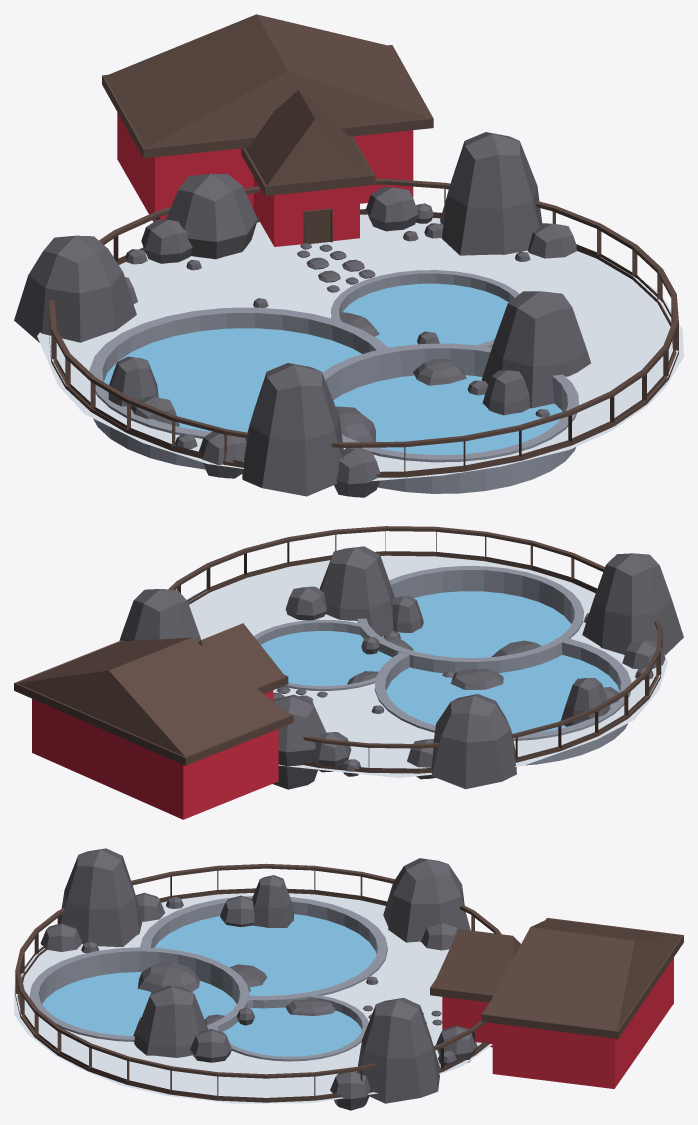
The model's file is Hotspring_Area_Blockout.fbx.
3 views of the same model, one above another, from view 1: azimuth 30°, elevation 25°; view 2: azimuth 150°, elevation 25°; view 3: azimuth 270°, elevation 25° (orthographic). The views are drawn at different scales.
Parts seen in each view (by area): view 1: Plane, Cube.044, Circle, Cube, Circle.006, Circle.002, Cube.023, Circle.007, Cube.022, Cube.028, Circle.001, Cube.001 (+13 smaller); view 2: Cube.044, Plane, Cube, Circle, Circle.002, Circle.007, Circle.006, Cube.023, Cube.028, Circle.004, Cube.011, Circle.001 (+11 smaller); view 3: Plane, Cube.044, Cube, Circle.006, Circle, Cube.022, Circle.002, Cube.023, Circle.007, Cube.028, Circle.004, Circle.001 (+14 smaller).
Boxes of the visible parts, x1,y1,x2,y2 form: Plane: [37, 214, 683, 481]; Cube.044: [102, 14, 433, 158]; Circle: [49, 178, 678, 477]; Cube: [117, 112, 413, 246]; Circle.006: [104, 328, 361, 432]; Circle.002: [322, 343, 578, 493]; Cube.023: [242, 363, 343, 496]; Circle.007: [333, 375, 562, 454]; Cube.022: [440, 132, 542, 255]; Cube.028: [14, 235, 136, 342]; Circle.001: [89, 307, 387, 469]; Cube.001: [241, 90, 375, 195]; Cube.044: [14, 637, 293, 765]; Plane: [186, 555, 667, 777]; Cube: [32, 690, 278, 819]; Circle: [168, 526, 662, 773]; Circle.002: [357, 566, 583, 673]; Circle.007: [382, 591, 571, 657]; Circle.006: [386, 654, 619, 733]; Cube.023: [582, 553, 683, 655]; Cube.028: [431, 694, 516, 789]; Circle.004: [261, 631, 391, 686]; Cube.011: [319, 546, 394, 636]; Circle.001: [374, 638, 631, 765]; Plane: [14, 893, 492, 1103]; Cube.044: [481, 918, 683, 1038]; Cube: [442, 957, 673, 1088]; Circle.006: [154, 914, 376, 995]; Circle: [15, 863, 501, 1102]; Cube.022: [357, 998, 439, 1103]; Circle.002: [30, 947, 249, 1041]; Cube.023: [61, 848, 142, 946]; Circle.007: [42, 972, 236, 1035]; Cube.028: [383, 858, 470, 942]; Circle.004: [222, 1007, 361, 1056]; Circle.001: [140, 896, 387, 1008].
Bounding box in the file's own units: 2036 × 665 × 2670.
